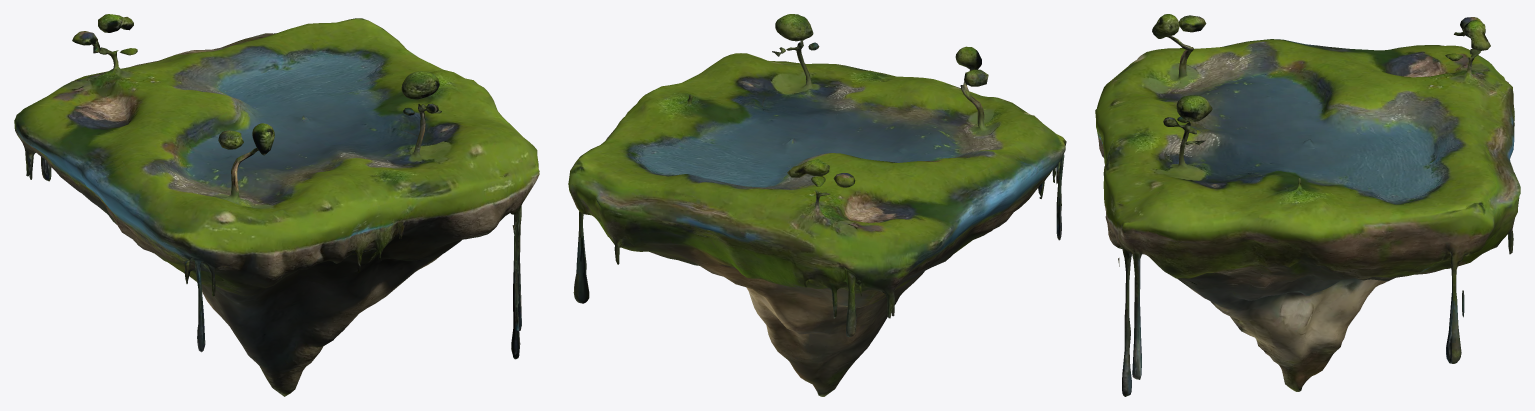
The model's file is island.glb.
3 renders of one model, left to right at view 1: azimuth 30°, elevation 25°; view 2: azimuth 150°, elevation 25°; view 3: azimuth 270°, elevation 25°, orthographic. The views are drawn at different scales.
Bounding box in the file's own units: 1.93 × 1.61 × 1.85.
Materials: 1 (1 with a texture image).
